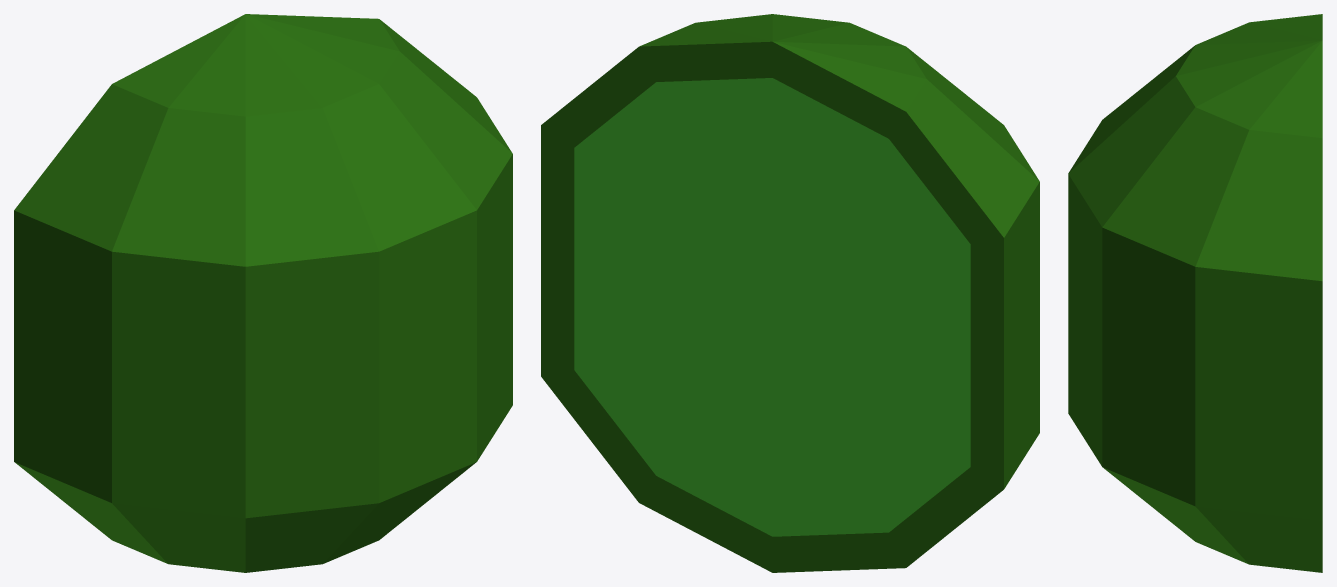
The model's file is cactus item.fbx.
The picture shows the model from 3 angles, left to right: view 1: azimuth 30°, elevation 25°; view 2: azimuth 150°, elevation 25°; view 3: azimuth 270°, elevation 25°; orthographic projection. The views are drawn at different scales.
Visible parts, largest first — view 1: cactus item; view 2: cactus item; view 3: cactus item.
Part boxes in pixels (<box>): cactus item: <box>14,14,512,572</box>; cactus item: <box>541,14,1039,572</box>; cactus item: <box>1068,14,1322,572</box>.
Bounding box in the file's own units: 0.1688 × 0.1851 × 0.0844.
